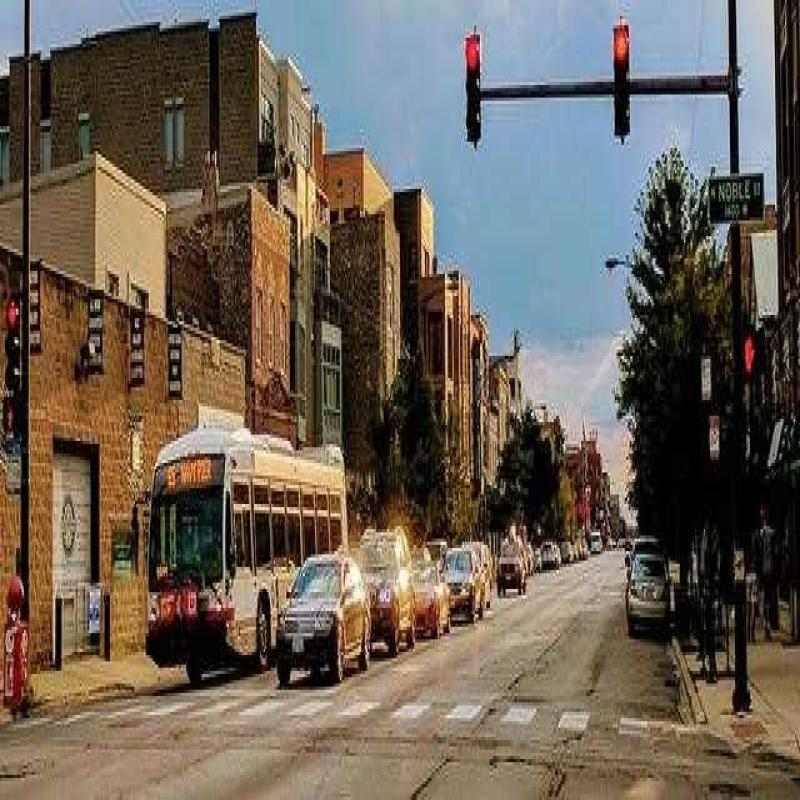bus: (143, 414, 365, 709)
